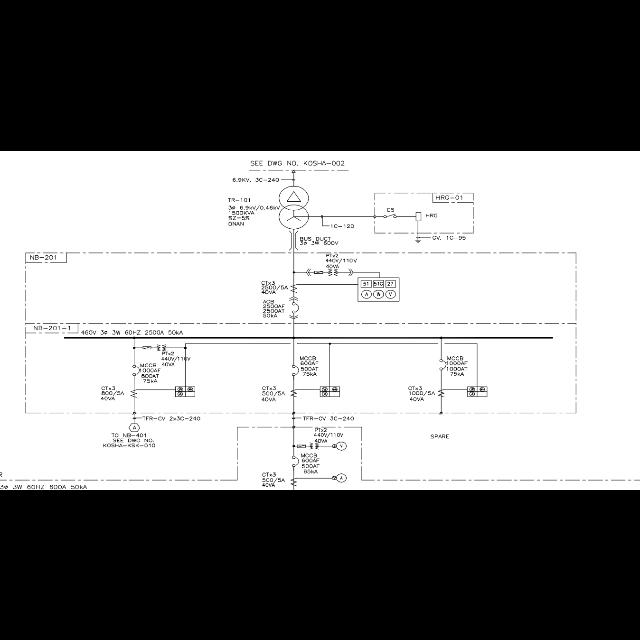A: (291, 364, 299, 376), (336, 473, 346, 482), (362, 290, 372, 298), (322, 391, 328, 395), (177, 391, 183, 395)
ACB: (292, 302, 298, 312)
AS: (332, 475, 336, 479)
CH: (291, 170, 295, 172)
CT: (290, 284, 298, 292), (290, 389, 298, 397), (438, 388, 444, 398), (131, 389, 137, 397), (291, 478, 297, 486)
GND: (414, 240, 422, 242)
MCCB: (132, 364, 140, 376), (292, 456, 300, 466), (439, 358, 446, 369)
PF2: (298, 444, 306, 448)
PT: (328, 268, 338, 276), (156, 344, 166, 351), (310, 442, 318, 448)
V: (384, 288, 396, 298), (336, 440, 346, 450)
VS: (332, 443, 336, 447)
ds: (384, 212, 396, 218)
